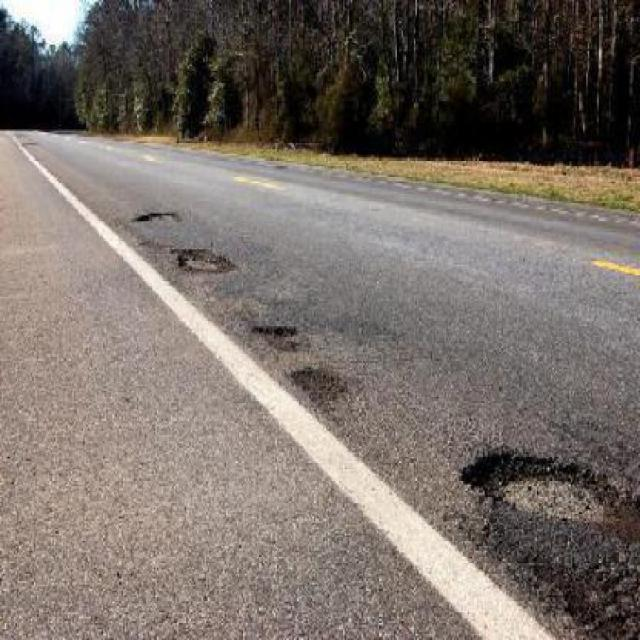pothole: (463, 448, 620, 528), (291, 363, 353, 408), (174, 245, 239, 278), (250, 319, 304, 350), (135, 207, 186, 226)
